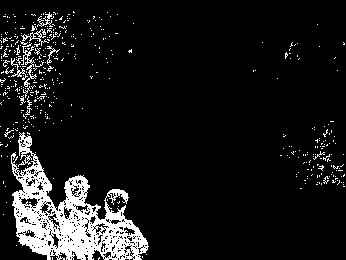person: (93, 187, 150, 260), (55, 174, 99, 260), (13, 174, 56, 257), (10, 132, 55, 194)
